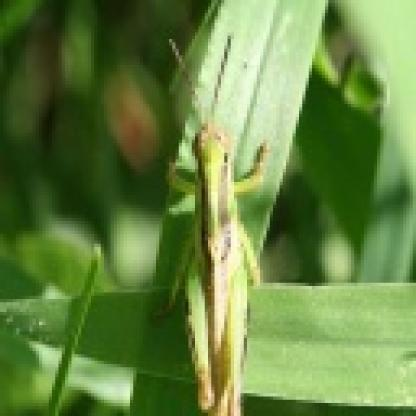grasshopper: (156, 54, 274, 416)
